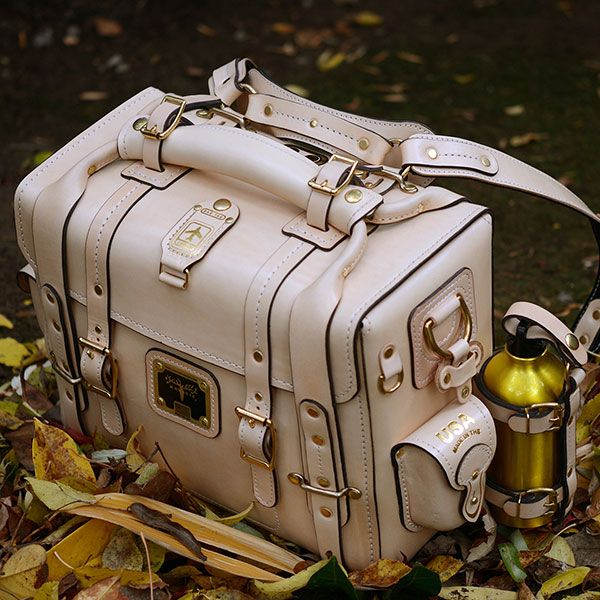cuero: (15, 55, 600, 577)
